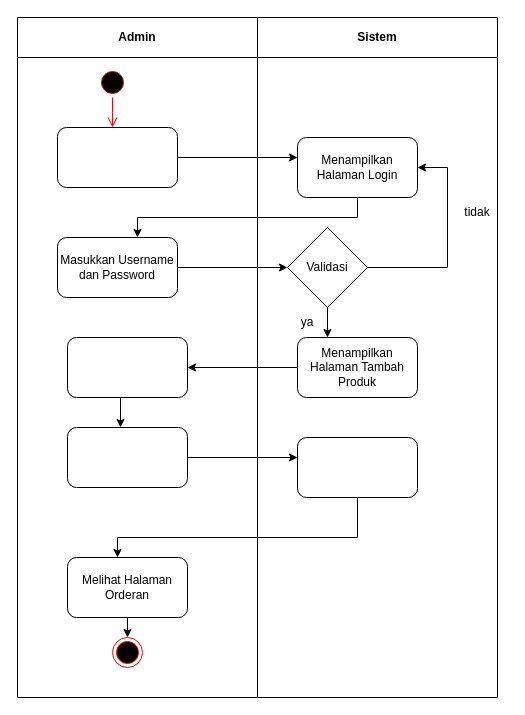
Image size: 525x715. Some labels were removed from this diagram. Each missing label, with the box of its shape:
Melihat Halaman Tambah Produk: (66, 336, 188, 398)
Membuka Website: (56, 126, 178, 188)
Memilih Menu Orderan: (66, 426, 188, 488)
Menampilkan Halaman Orderan: (296, 436, 418, 498)
